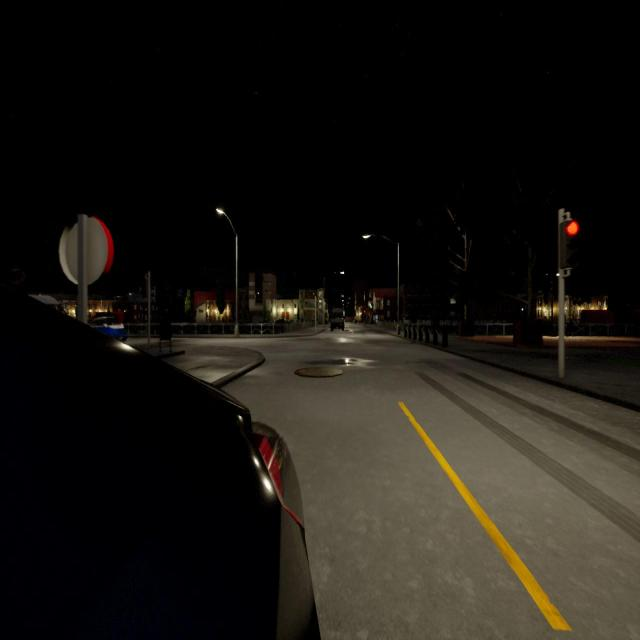Traffic_Signs: (54, 214, 114, 288)
Vehicle: (0, 285, 319, 638), (91, 317, 128, 341), (329, 308, 345, 332), (274, 317, 294, 323)
traffic_light: (559, 220, 580, 270), (363, 309, 366, 317)
